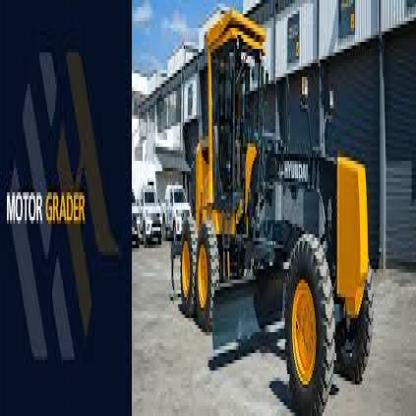bull_dozer/loader/grader: (160, 14, 386, 412)
